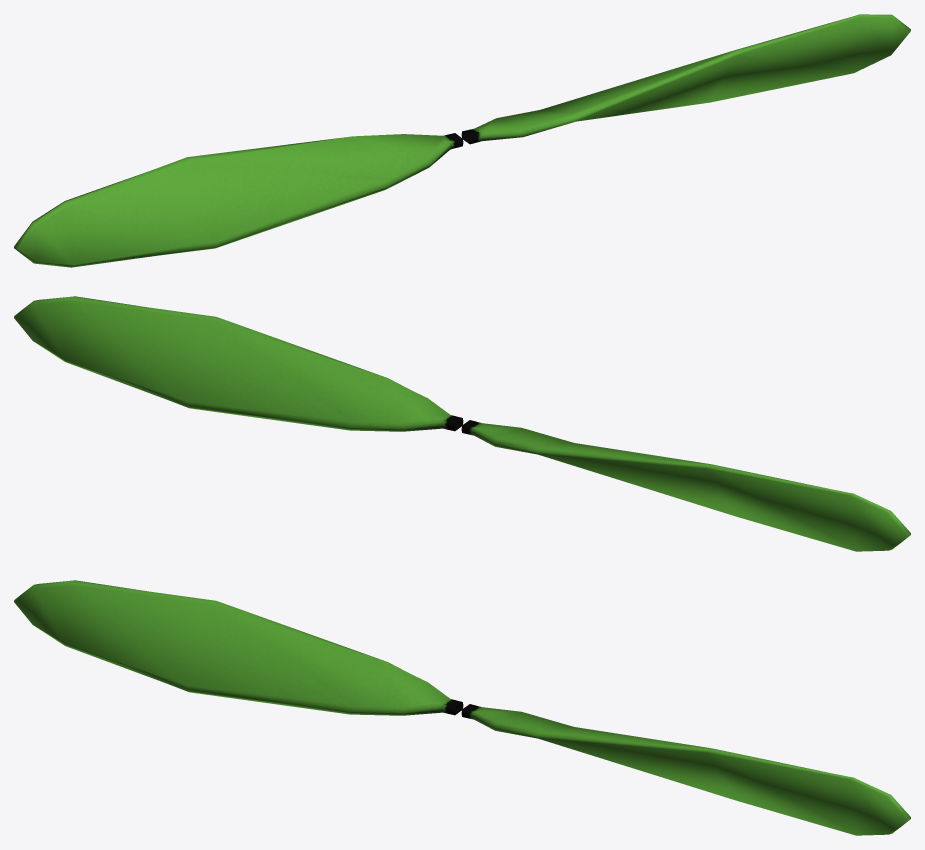
Rendered from PalesAvant.FBX.
3 views of the same model, one above another, from view 1: azimuth 30°, elevation 25°; view 2: azimuth 150°, elevation 25°; view 3: azimuth 330°, elevation 25° (orthographic).
Visible parts, largest first — view 1: PalesAvant; view 2: PalesAvant; view 3: PalesAvant.
Part boxes in pixels (x1=…): PalesAvant: x1=14, y1=14, x2=910, y2=267; PalesAvant: x1=14, y1=296, x2=910, y2=551; PalesAvant: x1=14, y1=580, x2=910, y2=835.
Size of the model in its own units: 12.56 by 0.9556 by 0.9251.
